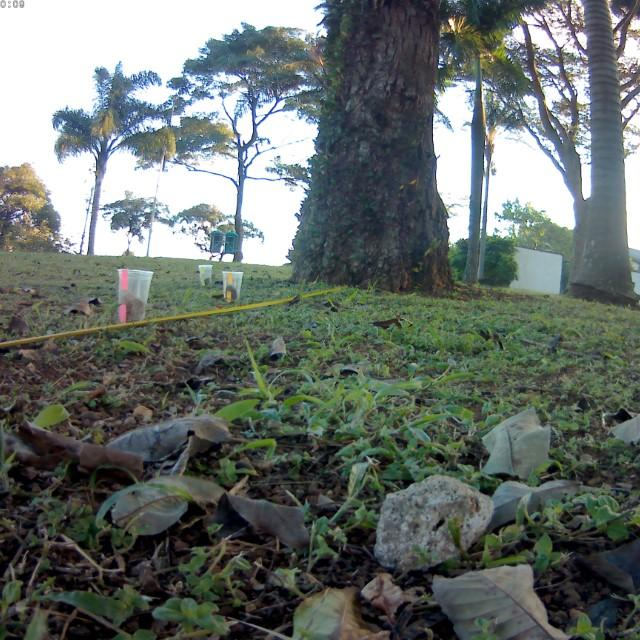arvore: (284, 0, 467, 298)
